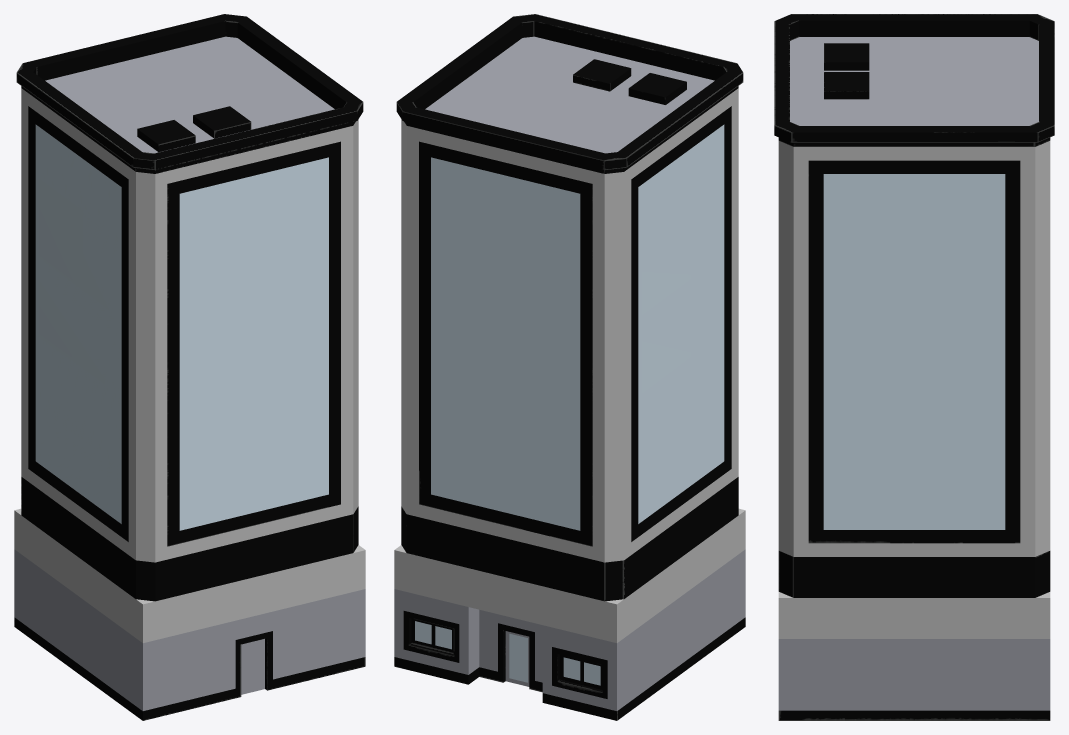
Rendered from skyscraperA1.fbx.
The picture shows the model from 3 angles, left to right: view 1: azimuth 30°, elevation 25°; view 2: azimuth 150°, elevation 25°; view 3: azimuth 270°, elevation 25°; orthographic projection. The views are drawn at different scales.
Parts seen in each view (by area): view 1: skyscraperA; view 2: skyscraperA; view 3: skyscraperA.
Part boxes in pixels (box(x1,y1,x2,y2)): skyscraperA: box(14, 14, 365, 720); skyscraperA: box(394, 14, 745, 720); skyscraperA: box(774, 14, 1054, 720).
Size of the model in its own units: 124 by 288 by 124.
